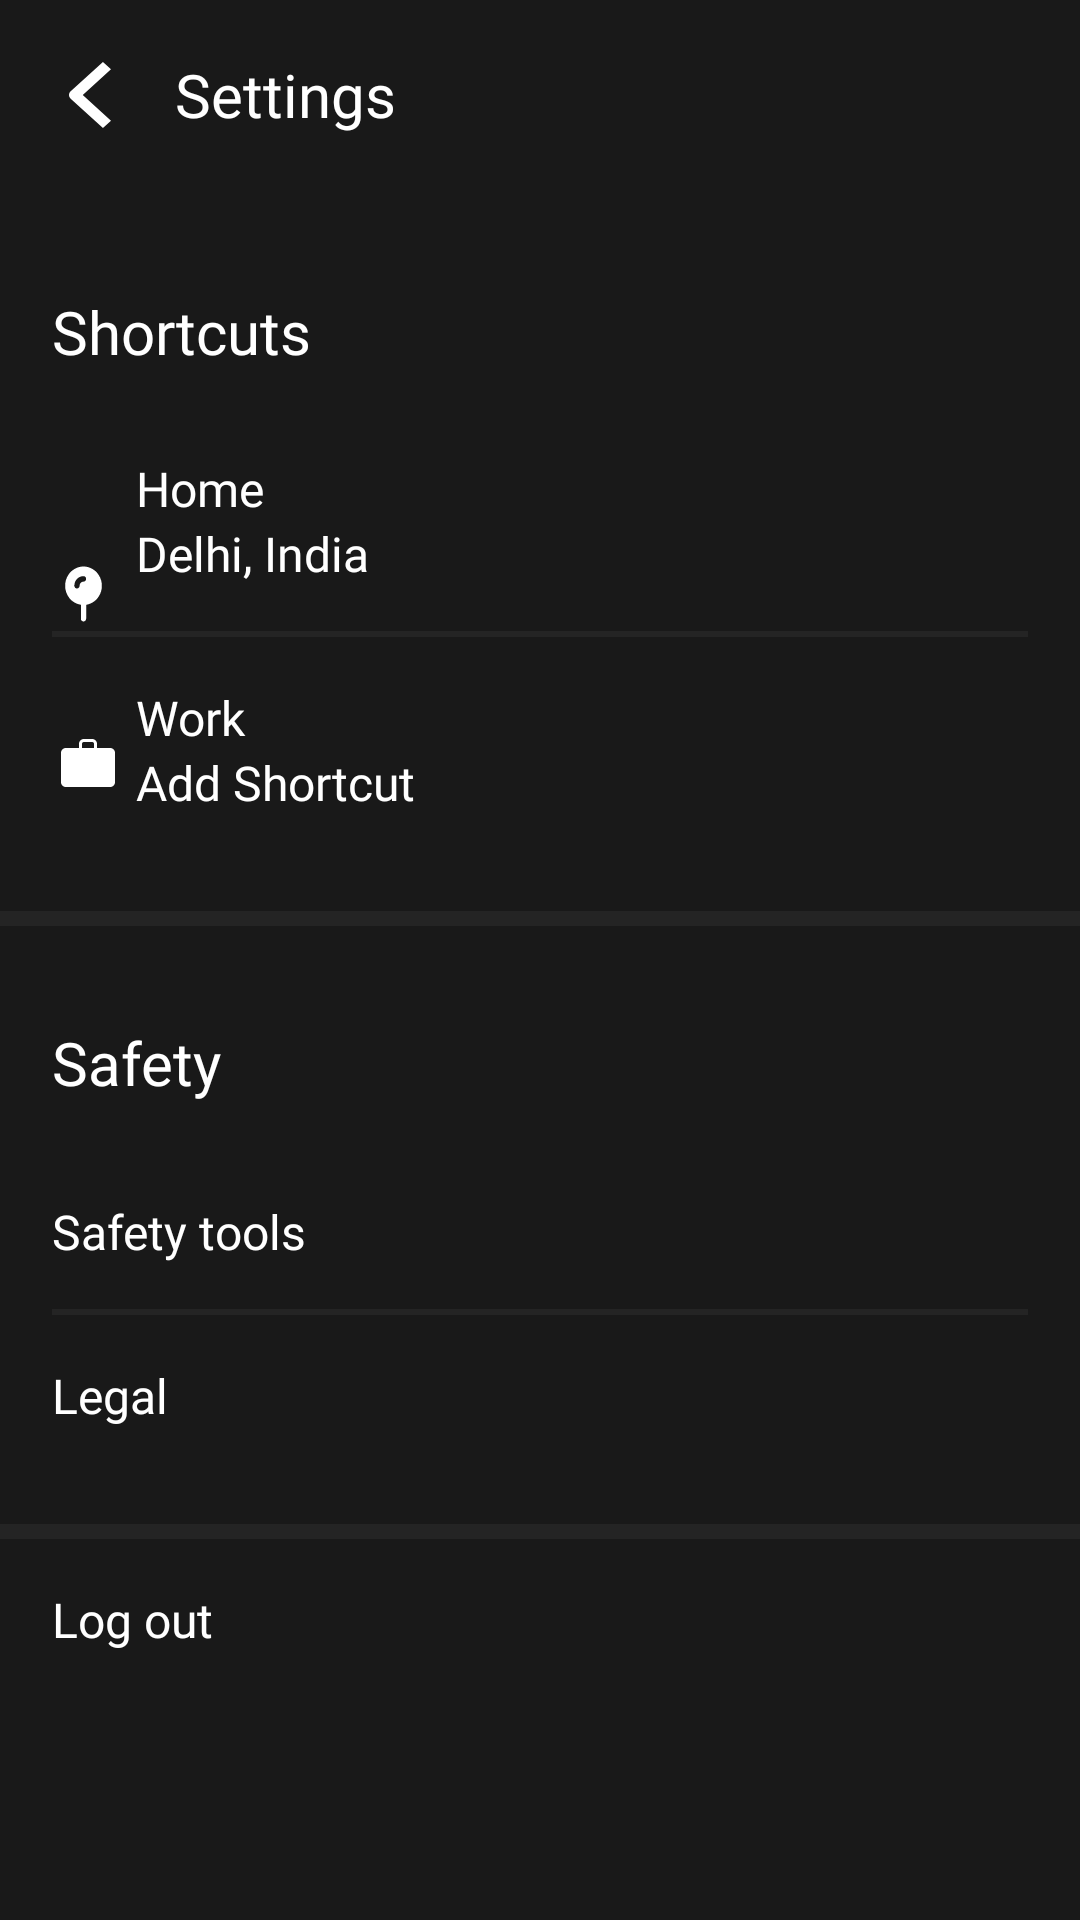

Icon bounding boxes for this 1080px×1920px phone screenshot, format (x1, y1, x2, y2):
Back button: (69, 62, 111, 128)
